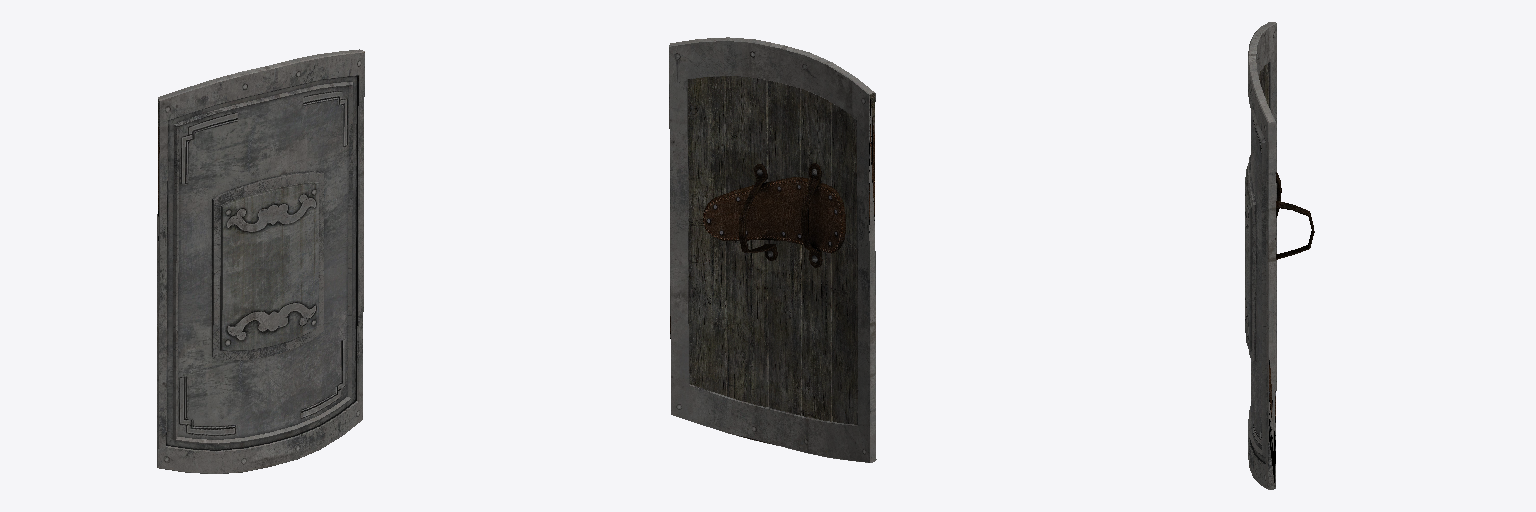
3 renders of one model, left to right at view 1: azimuth 30°, elevation 25°; view 2: azimuth 150°, elevation 25°; view 3: azimuth 270°, elevation 25°, orthographic.
Size of the model in its own units: 32.03 by 59.13 by 9.31.
Materials: 2 (2 with a texture image).